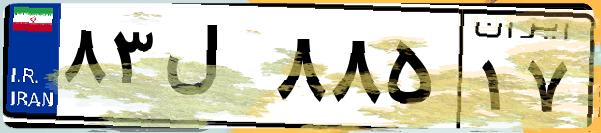1: (475, 38, 525, 113)
3: (110, 28, 158, 98)
5: (385, 28, 445, 110)
7: (525, 38, 570, 115)
8: (270, 28, 330, 110), (330, 28, 385, 110), (57, 26, 110, 100)
ل: (158, 20, 270, 120)
